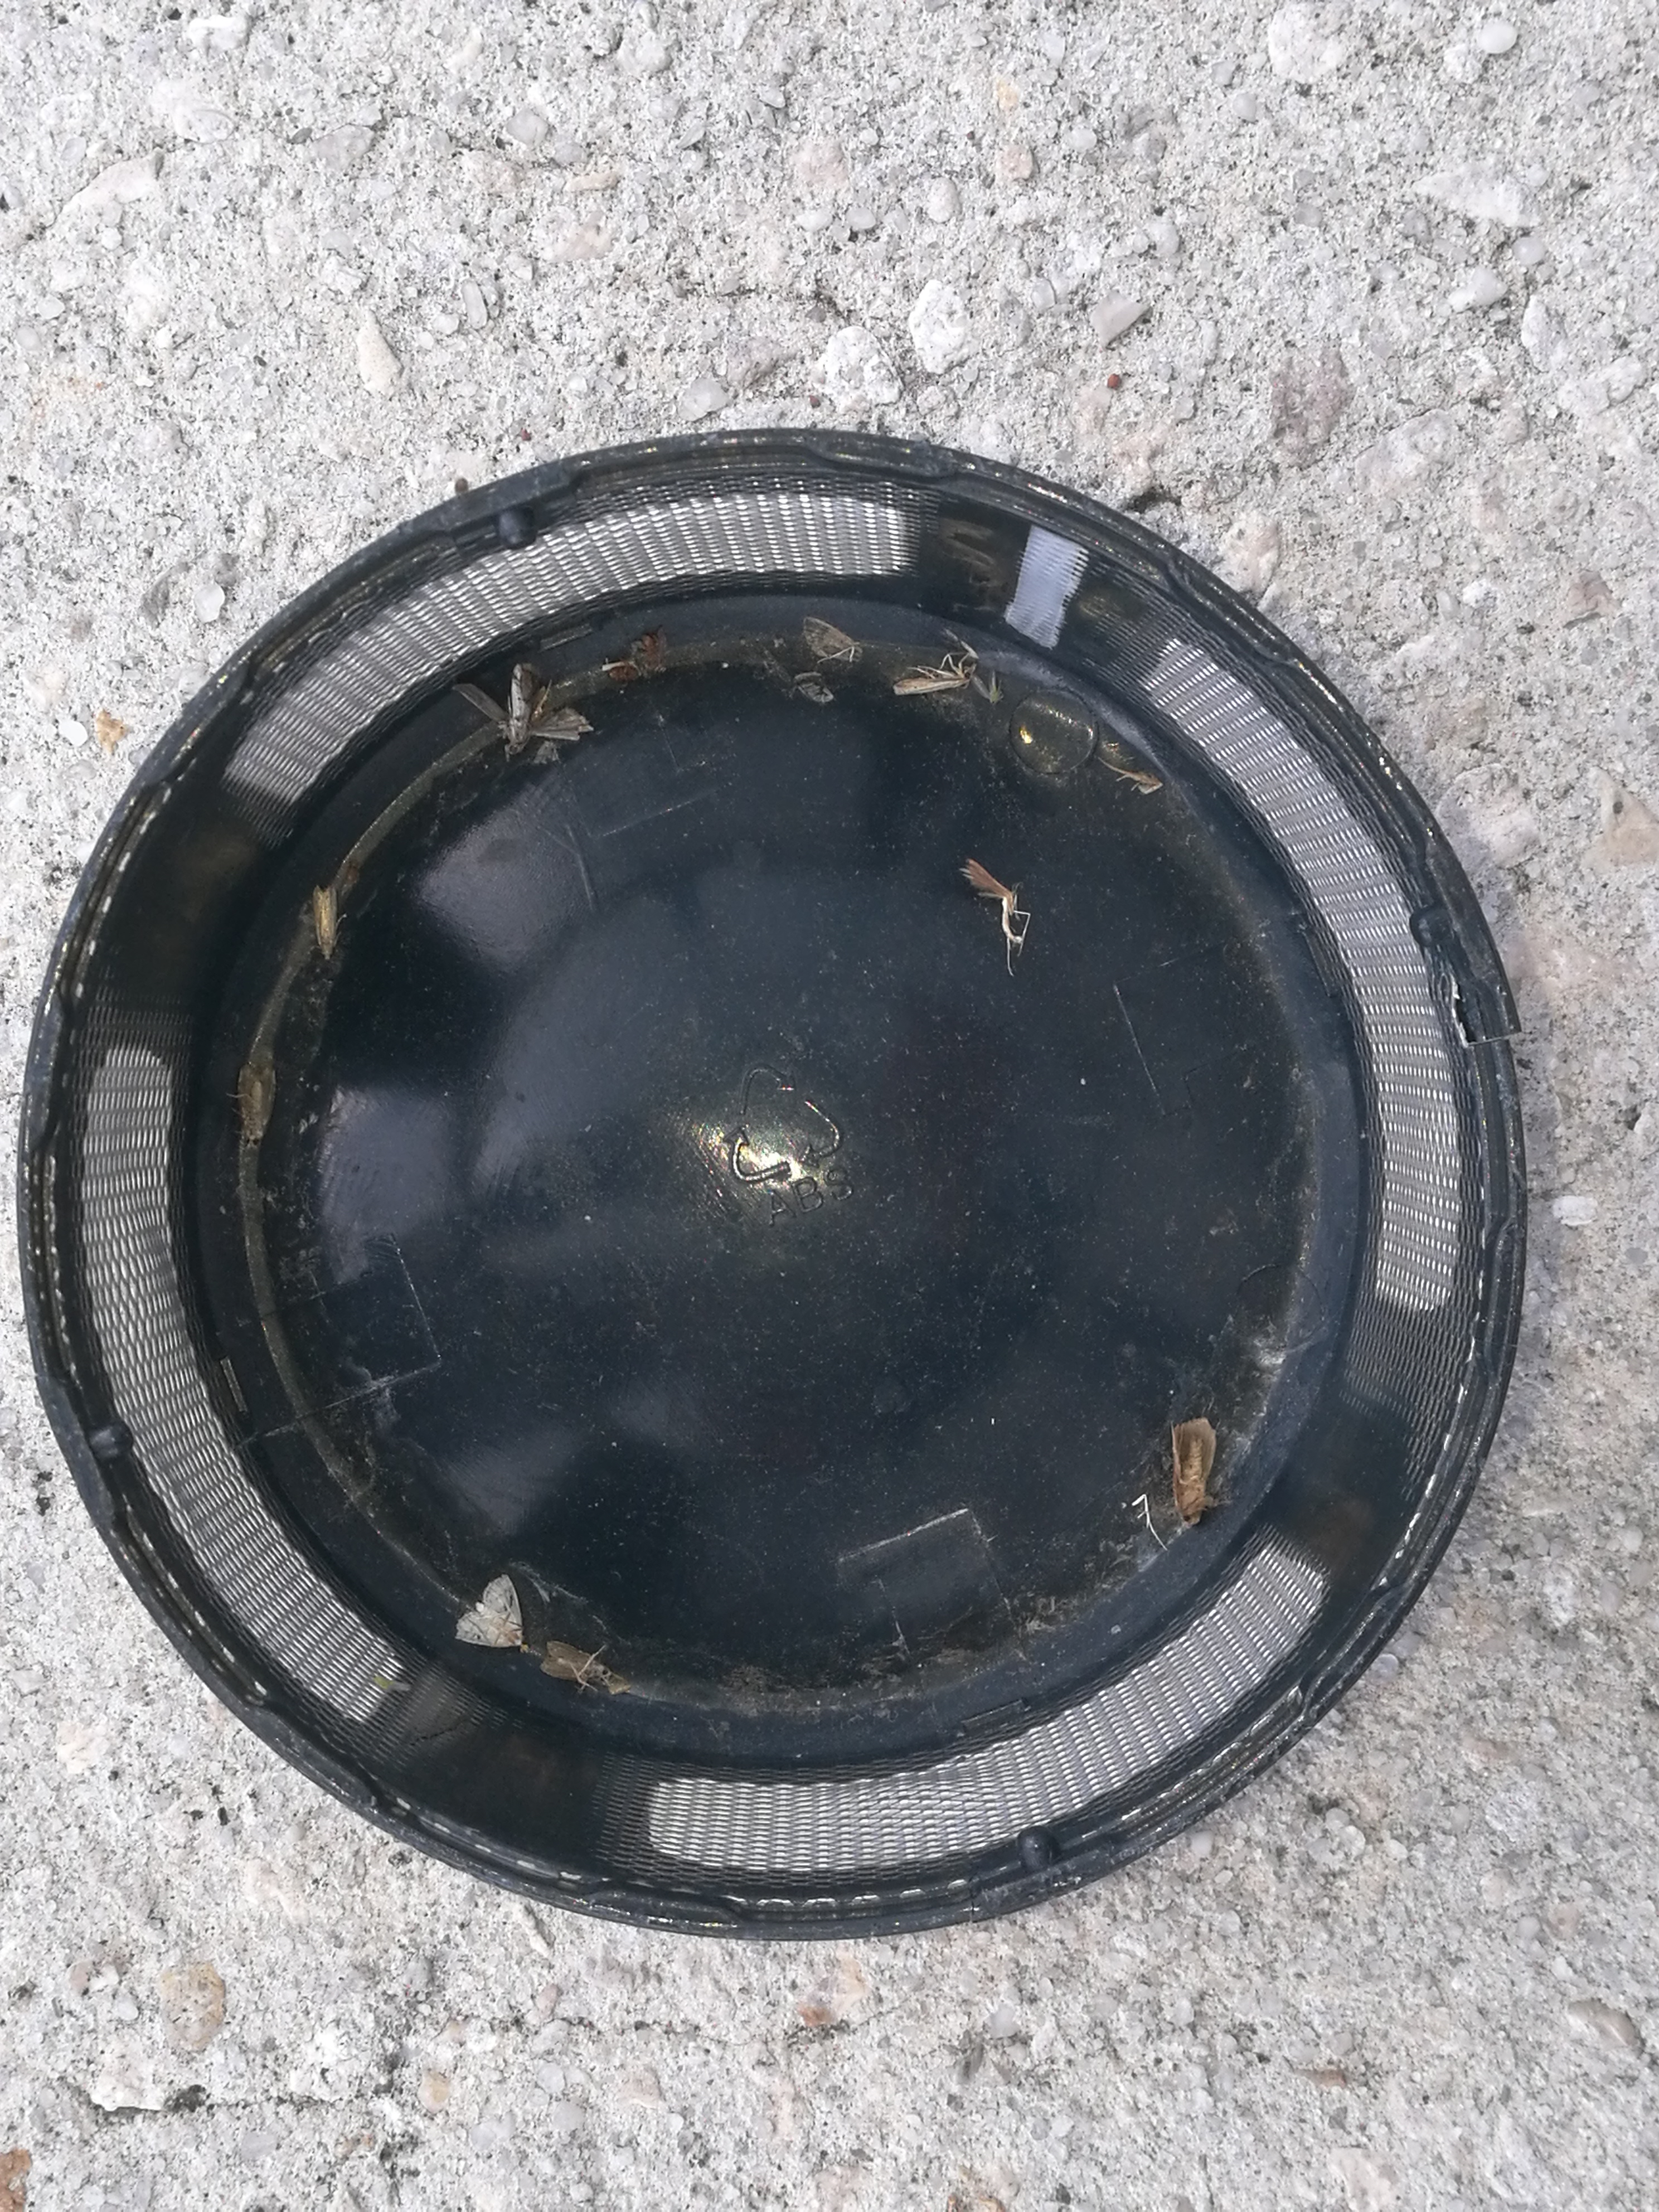mosquito: (894, 665, 969, 693), (315, 888, 338, 960)
moth: (453, 665, 592, 758), (458, 1575, 523, 1649), (1169, 1416, 1213, 1526), (239, 1064, 277, 1150), (538, 1639, 610, 1677)
